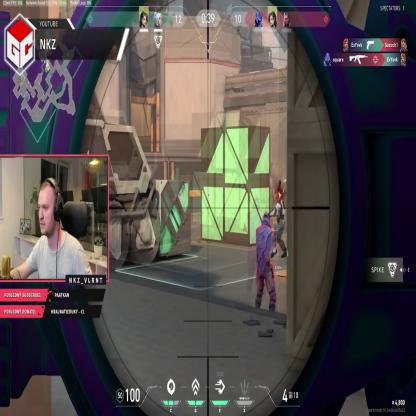enemy: (254, 211, 277, 314)
enemy_head: (262, 212, 270, 227)
